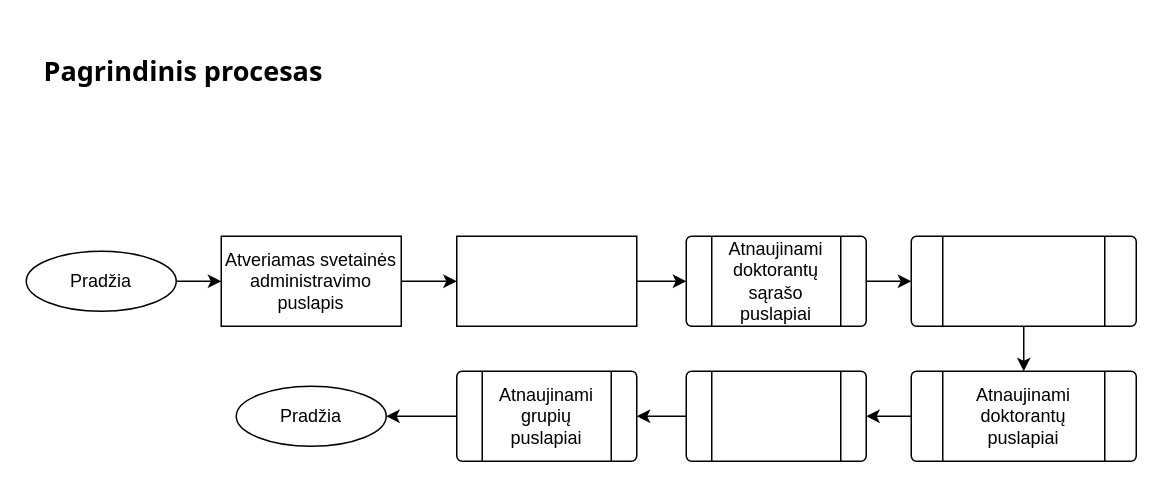
Some shapes in this 1163 by 488 pixel diagram are drawn without their labels. The centre of each missing label's shape, as x and y in pixels:
Atnaujinami doktorantų pagal įstojimo metus puslapiai: (x=1023, y=280)
Atnaujinami vadovų puslapiai: (x=775, y=415)
Prisijungiama prie svetainės: (x=546, y=280)
